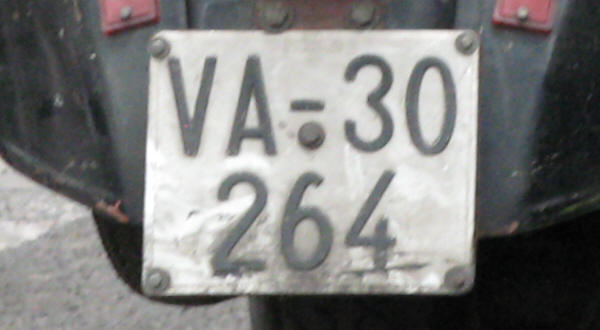license_plate: (140, 30, 479, 296)
